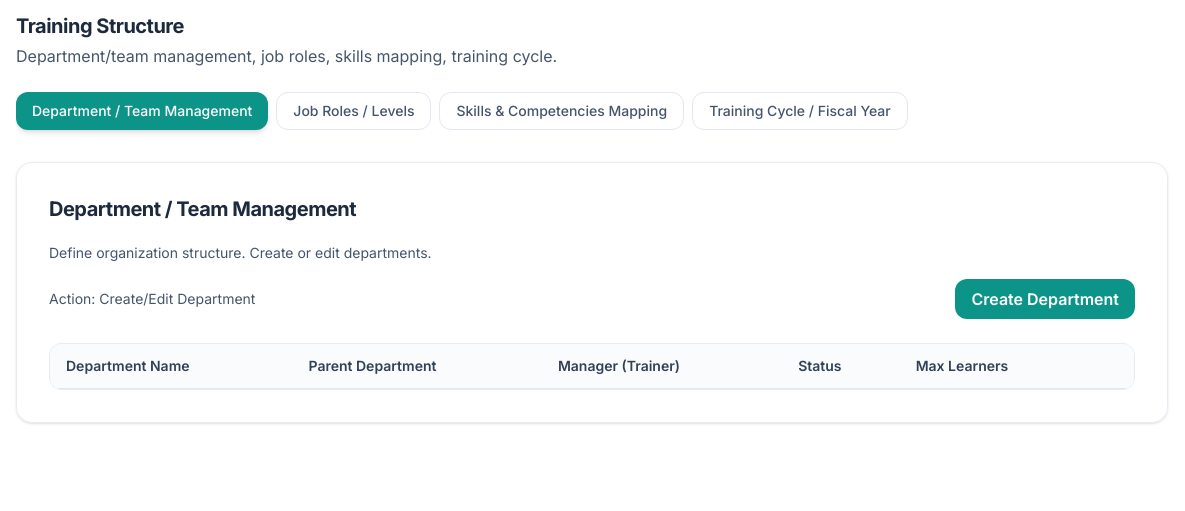
AcademicSetup – tab switching › switches to Skills & Competencies Mapping tab when clicked
Click the button "Skills & Competencies Mapping" at (562, 111), box left=440, top=92, right=684, bottom=130
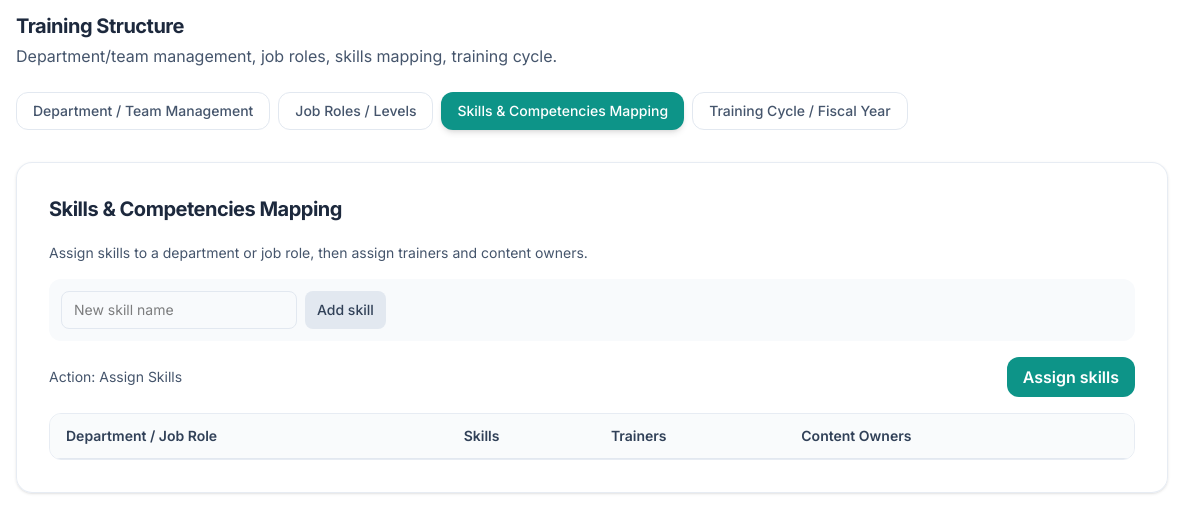
Expected: the button "Assign skills" is shown, left=1007, top=357, right=1135, bottom=397
Expected: the field with placeholder "New skill name" is shown, left=61, top=291, right=297, bottom=329
